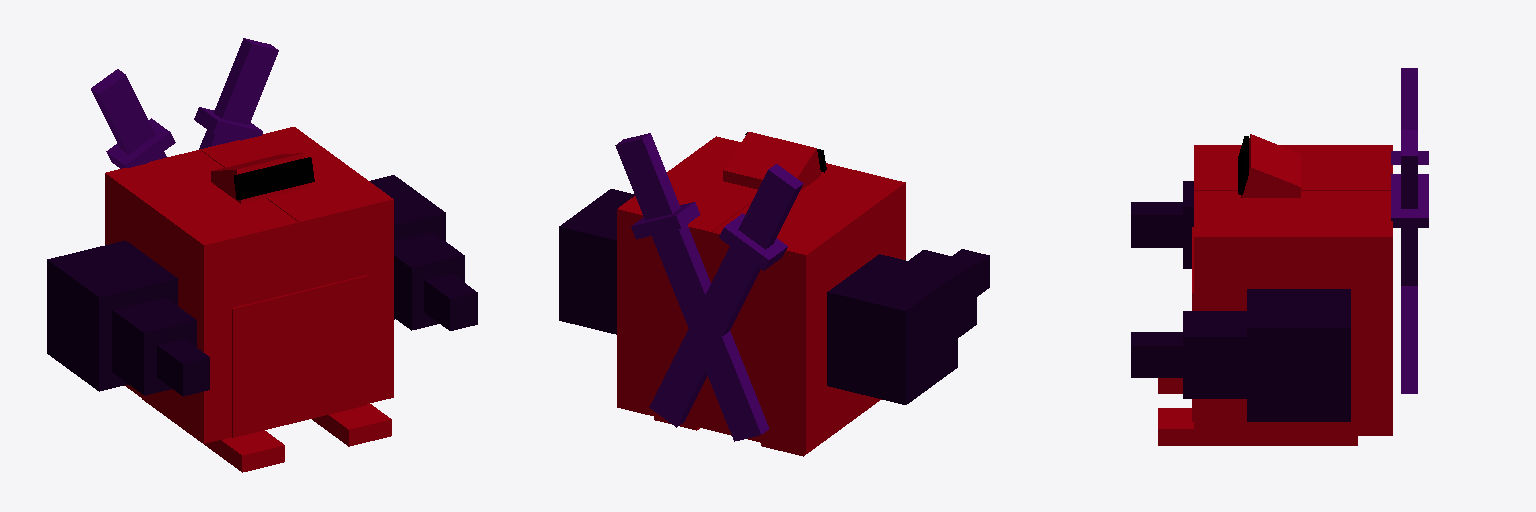
The model's file is square_robot.obj.
The picture shows the model from 3 angles: view 1: azimuth 30°, elevation 25°; view 2: azimuth 150°, elevation 25°; view 3: azimuth 270°, elevation 25°; orthographic projection.
Visible parts, largest first — view 1: Cube.001, sword_Cube.002, sword.001_Cube.003; view 2: Cube.001, sword_Cube.002, sword.001_Cube.003; view 3: Cube.001, sword_Cube.002, sword.001_Cube.003.
Part boxes in pixels (x1,y1,x2,y2): Cube.001: (47, 127, 477, 472); sword_Cube.002: (194, 38, 278, 149); sword.001_Cube.003: (91, 69, 175, 168); Cube.001: (559, 132, 989, 456); sword_Cube.002: (615, 133, 768, 441); sword.001_Cube.003: (649, 164, 803, 427); Cube.001: (1131, 134, 1392, 445); sword_Cube.002: (1391, 130, 1428, 285); sword.001_Cube.003: (1391, 68, 1428, 393).
Bounding box in the file's own units: 3.66 × 3.1 × 2.71.